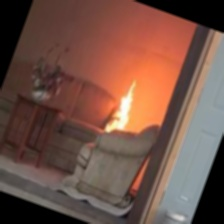fire: (102, 67, 161, 144)
